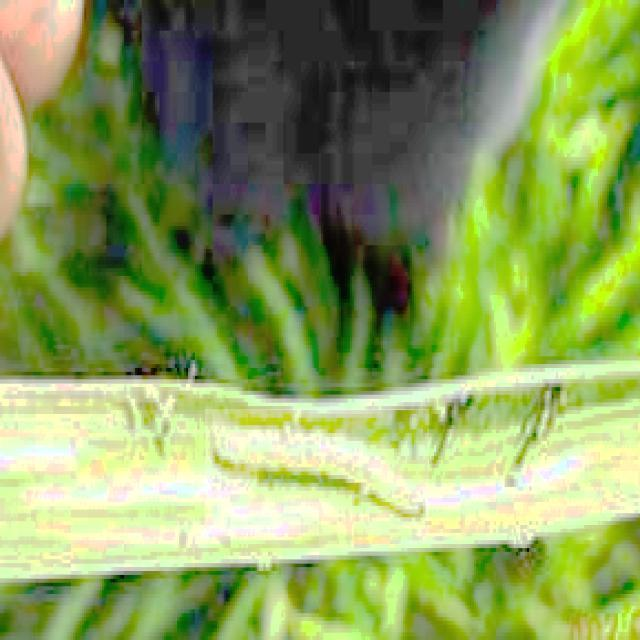leaf-folder: (205, 409, 429, 535)
